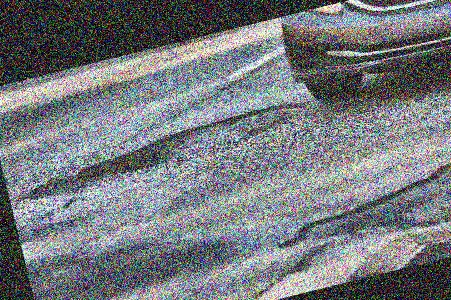pothole: (71, 94, 318, 187), (268, 147, 451, 263)
